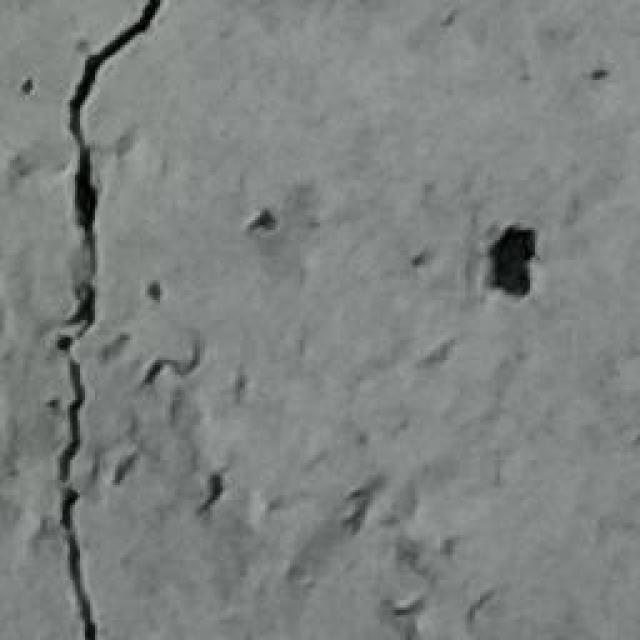Longitudinal: (43, 0, 149, 640)
